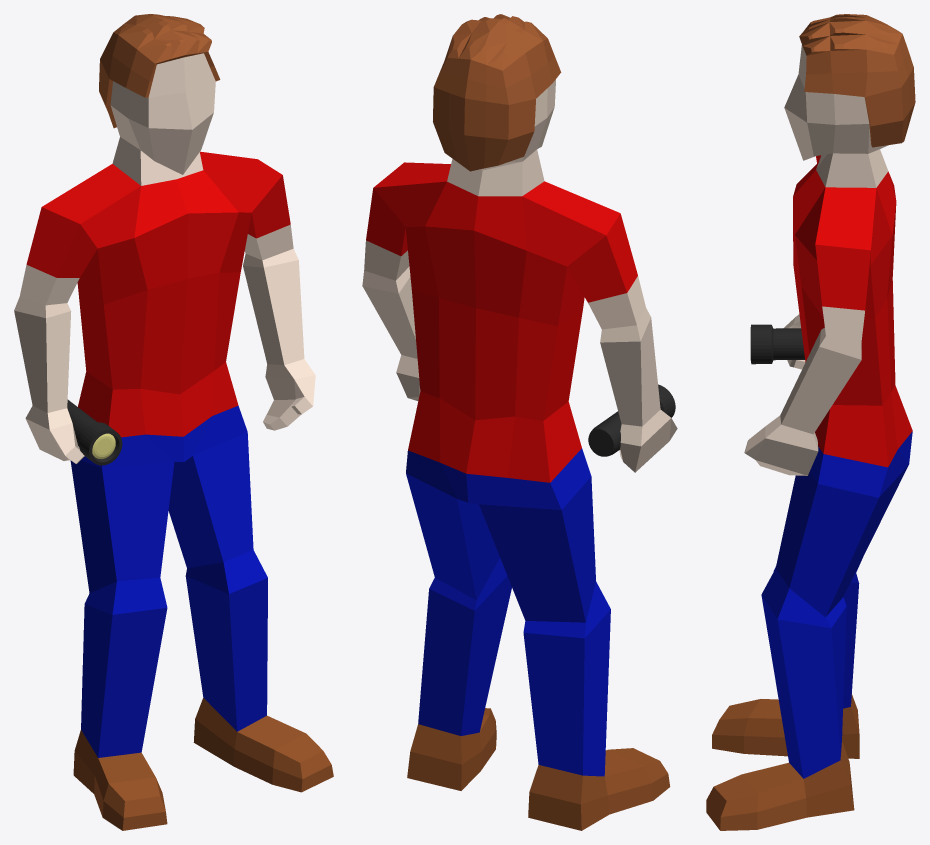
File: Human_grabbing_56.fbx
3 views of the same model, side by side, from view 1: azimuth 30°, elevation 25°; view 2: azimuth 150°, elevation 25°; view 3: azimuth 270°, elevation 25° (orthographic). The views are drawn at different scales.
Visible parts, largest first — view 1: Person.003, Cylinder.002; view 2: Person.003, Cylinder.002; view 3: Person.003, Cylinder.002.
Part boxes in pixels (box(x1,y1,x2,y2)): Person.003: box(14, 14, 333, 830); Cylinder.002: box(67, 399, 122, 465); Person.003: box(362, 14, 677, 830); Cylinder.002: box(588, 384, 675, 456); Person.003: box(706, 14, 915, 830); Cylinder.002: box(750, 324, 804, 364).
Bounding box in the file's own units: 0.5865 × 1.58 × 0.3921.
